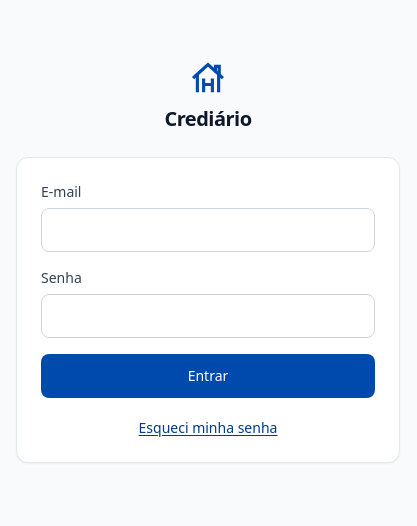
Test case: LoginPage › recuperar senha avisa sem dizer se a conta existe
Type " dono@loja.com " into the field labelled "E-mail" at (208, 230), box [41, 208, 375, 252]
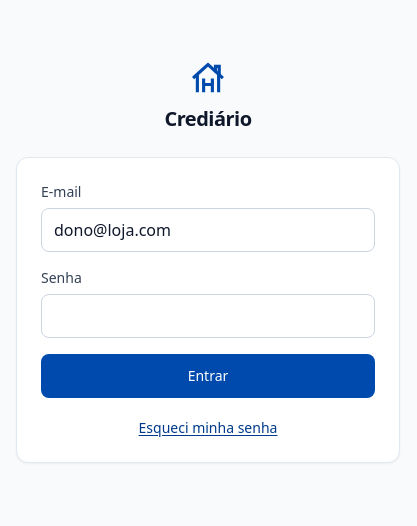
Click the button "Esqueci minha senha" at (208, 428), box [130, 414, 285, 442]
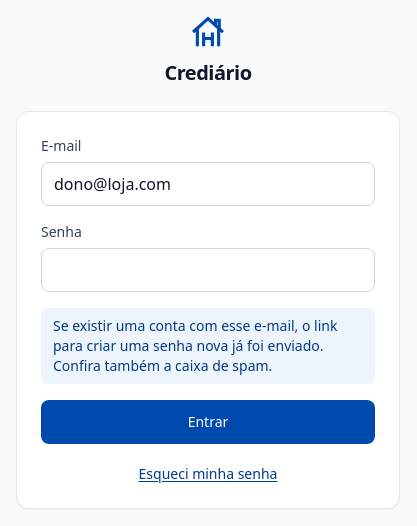
Expected: the button named "Enviando…" is shown, [130, 460, 285, 488]
Result: the message shows "Se existir uma conta com esse e-mail" at [53, 316, 338, 375]
